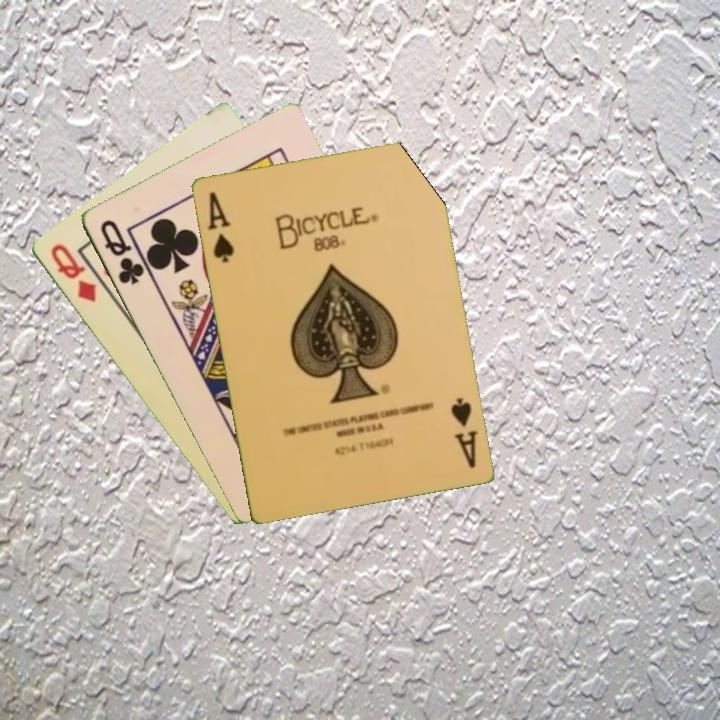As: (203, 188, 237, 265), (447, 393, 480, 471)
Qc: (96, 215, 147, 288)
Qd: (46, 240, 99, 305)
